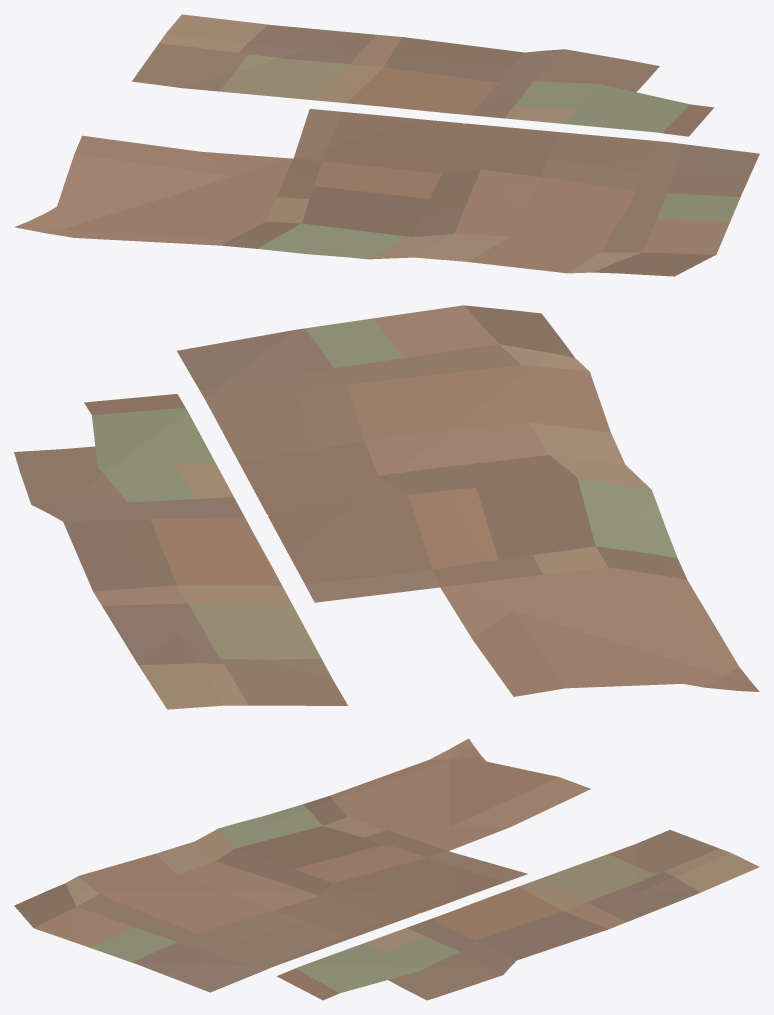
File: farm_4_20_soil.glb
3 renders of one model, top to bottom at view 1: azimuth 30°, elevation 25°; view 2: azimuth 150°, elevation 25°; view 3: azimuth 270°, elevation 25°, orthographic. The views are drawn at different scales.
Visible parts, largest first — view 1: geometry_0; view 2: geometry_0; view 3: geometry_0.
Part boxes in pixels (<box>): geometry_0: <box>14,14,759,276</box>; geometry_0: <box>14,305,759,709</box>; geometry_0: <box>14,738,759,1000</box>.
Size of the model in its own units: 292 by 14.58 by 322.
